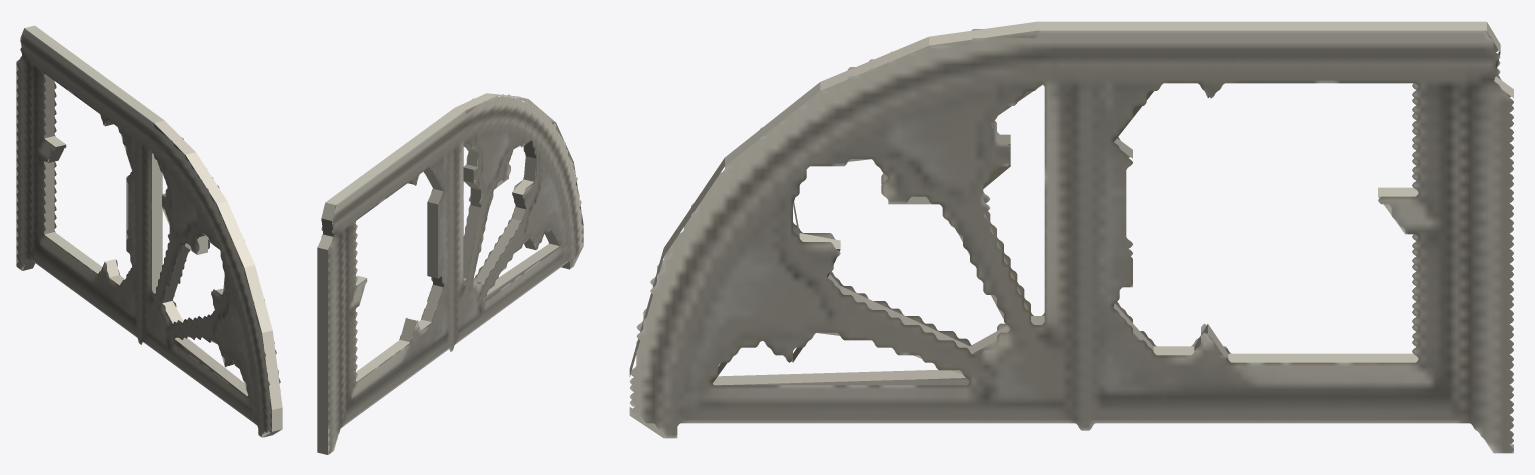
Rendered from pz_native_fixtures_windows_church_64_frame.obj.
The picture shows the model from 3 angles, left to right: view 1: azimuth 30°, elevation 25°; view 2: azimuth 150°, elevation 25°; view 3: azimuth 270°, elevation 25°; orthographic projection. The views are drawn at different scales.
Visible parts, largest first — view 1: pz_native_fixtures_windows_church_64_frame; view 2: pz_native_fixtures_windows_church_64_frame; view 3: pz_native_fixtures_windows_church_64_frame.
Part boxes in pixels (box(x1,y1,x2,y2)): pz_native_fixtures_windows_church_64_frame: box(16, 25, 282, 437); pz_native_fixtures_windows_church_64_frame: box(317, 93, 583, 454); pz_native_fixtures_windows_church_64_frame: box(629, 21, 1513, 453).
Bounding box in the file's own units: 0.04 × 0.9062 × 1.7.
Materials: 1 (1 with a texture image).
